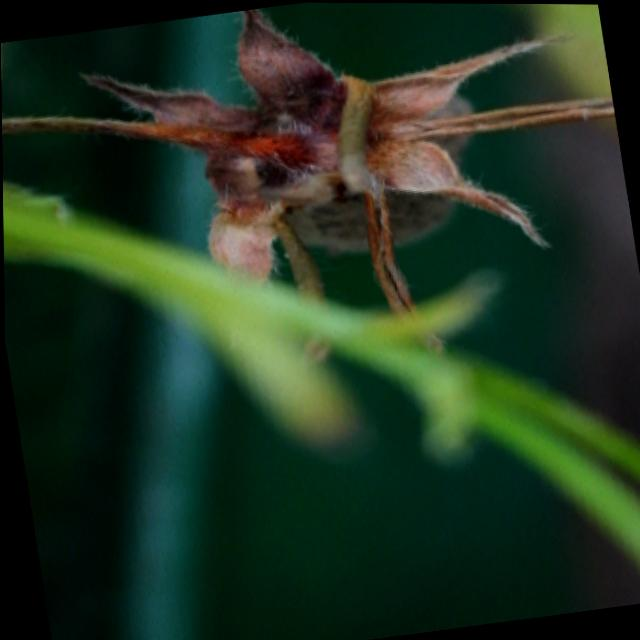Gray Mold: (1, 7, 615, 316)
